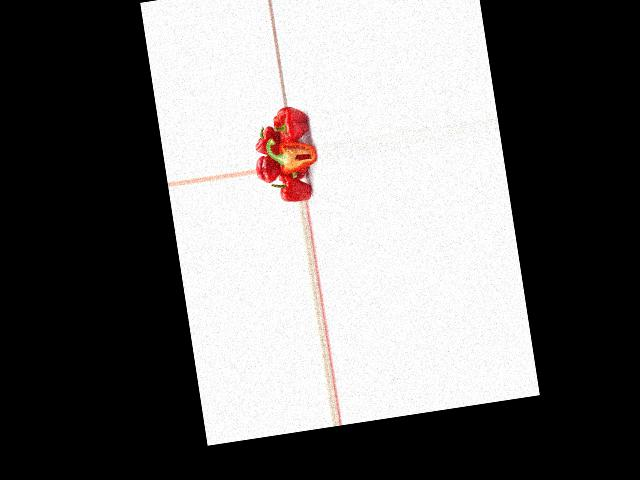bell_pepper: (252, 124, 280, 157)
